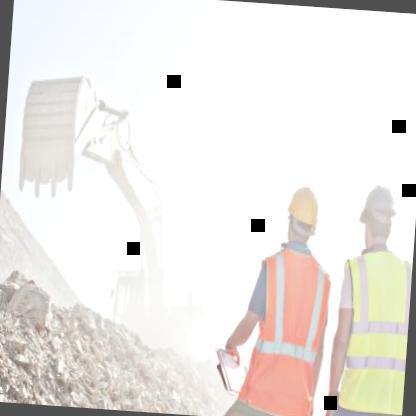helmet: (354, 174, 402, 256), (282, 174, 325, 254)
